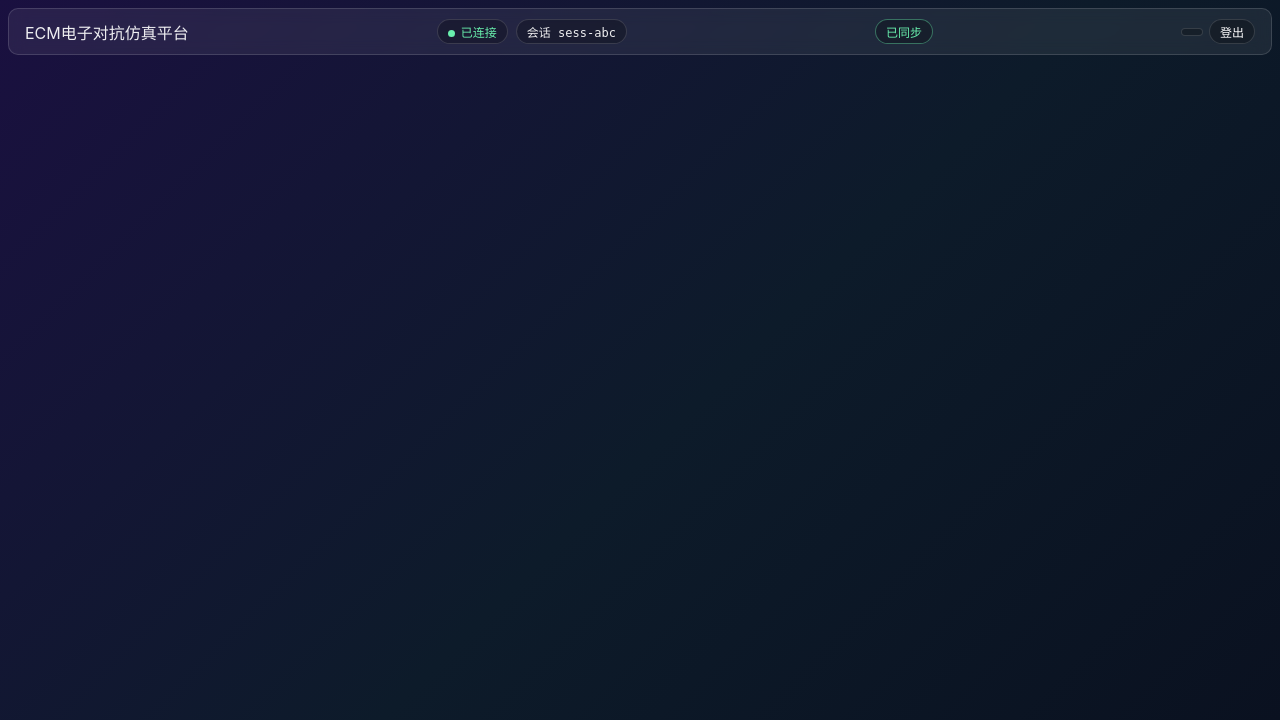
it: AppHeader › 下拉中当前会话带徽标
Hover over the element with class "session-wrapper" at (571, 32), box top-left (516, 19), bottom-right (627, 44)
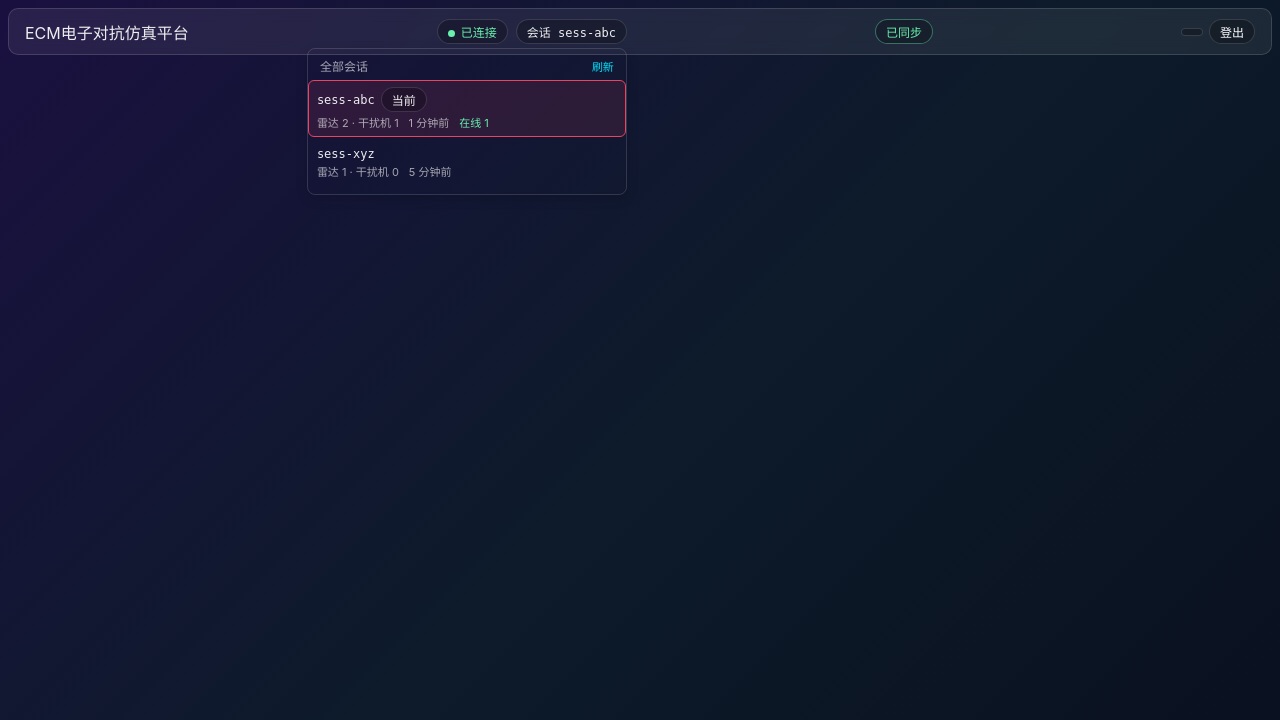
Now the list item "sess-abc 当前 雷达 2 · 干扰机 1 1 分钟前 在线 1" is shown, box top-left (308, 80), bottom-right (626, 137)
